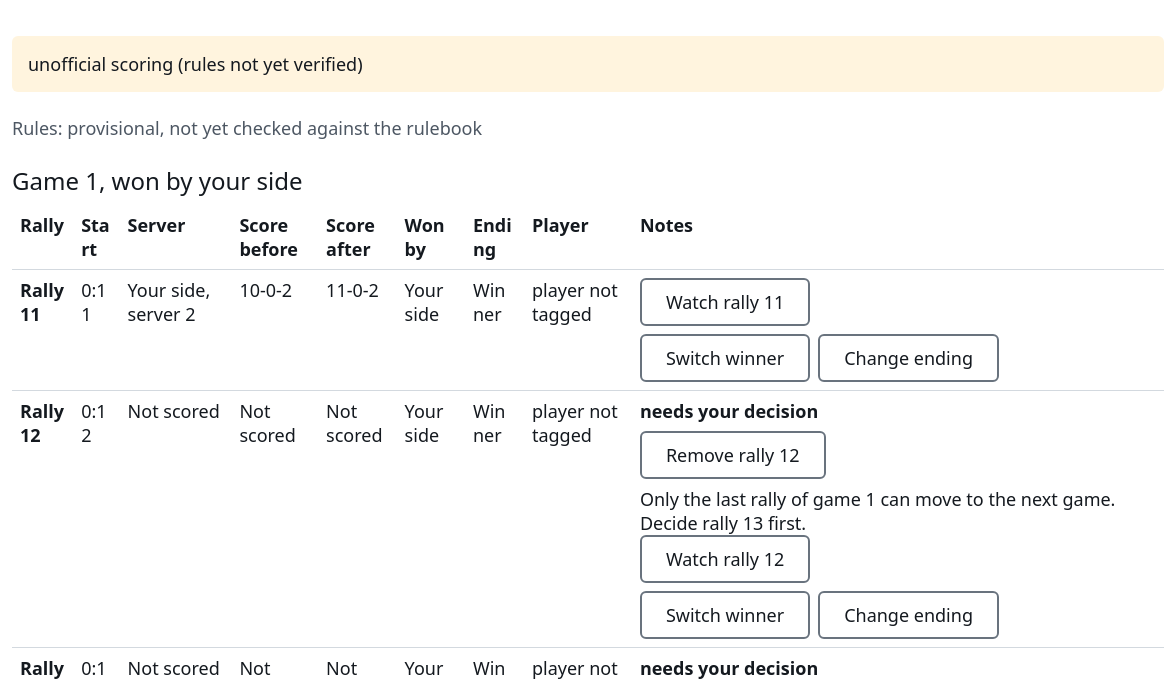
Test case: DR-02 E-3: focus after a decision › removing a rally moves focus to the next row's first action
This screenshot has width=1164, height=681.
Click the button "Remove rally 12".
click(733, 455)  # box [640,431,826,479]
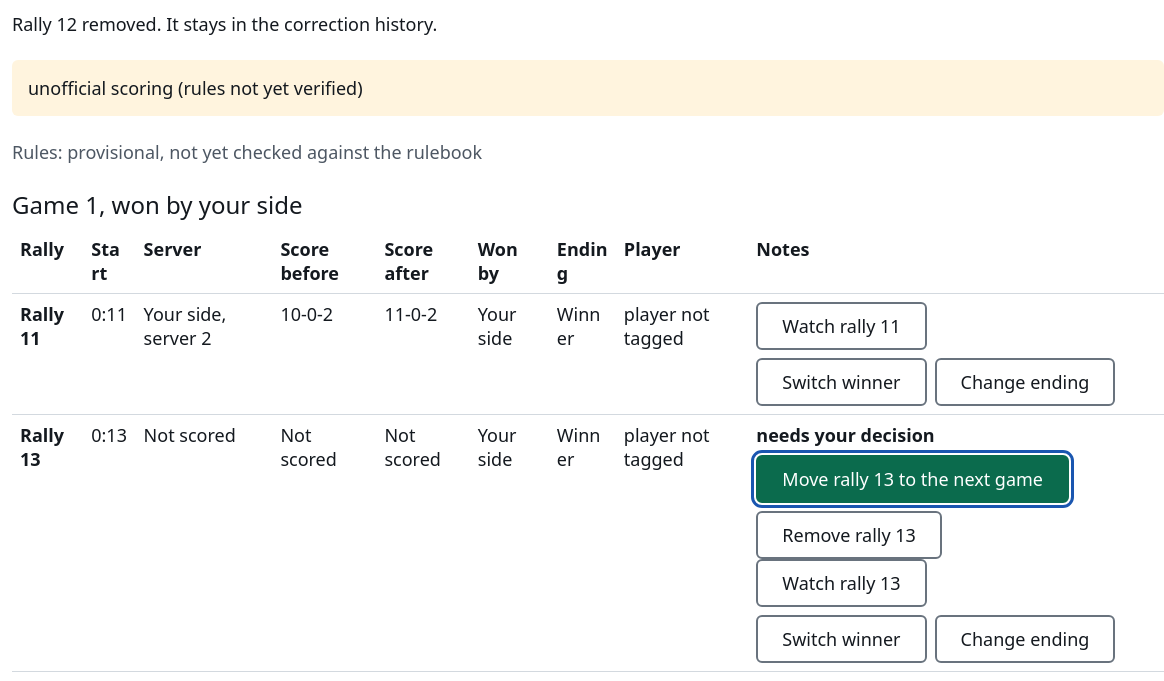
Now the text "Rally 12 removed. It stays in the correction history." is shown, box [12,12,437,36]
